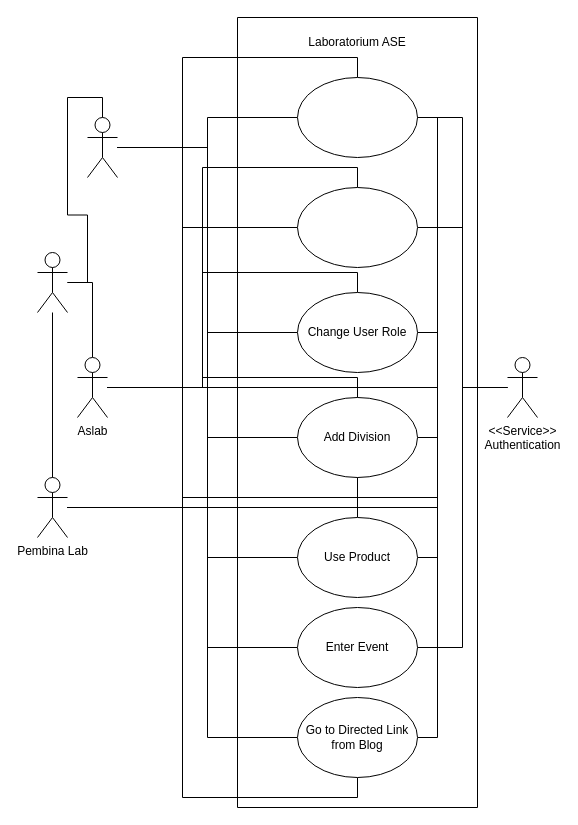
Some shapes in this 578 by 825 pixel diagram are drawn without their labels. Here are the shapes that lost their labels. From the top down, the centre of each, then its label:
point (357, 117): Register and Log In
point (102, 147): Member
point (357, 227): Create and Show Product, Event, and Blog
point (52, 282): User
